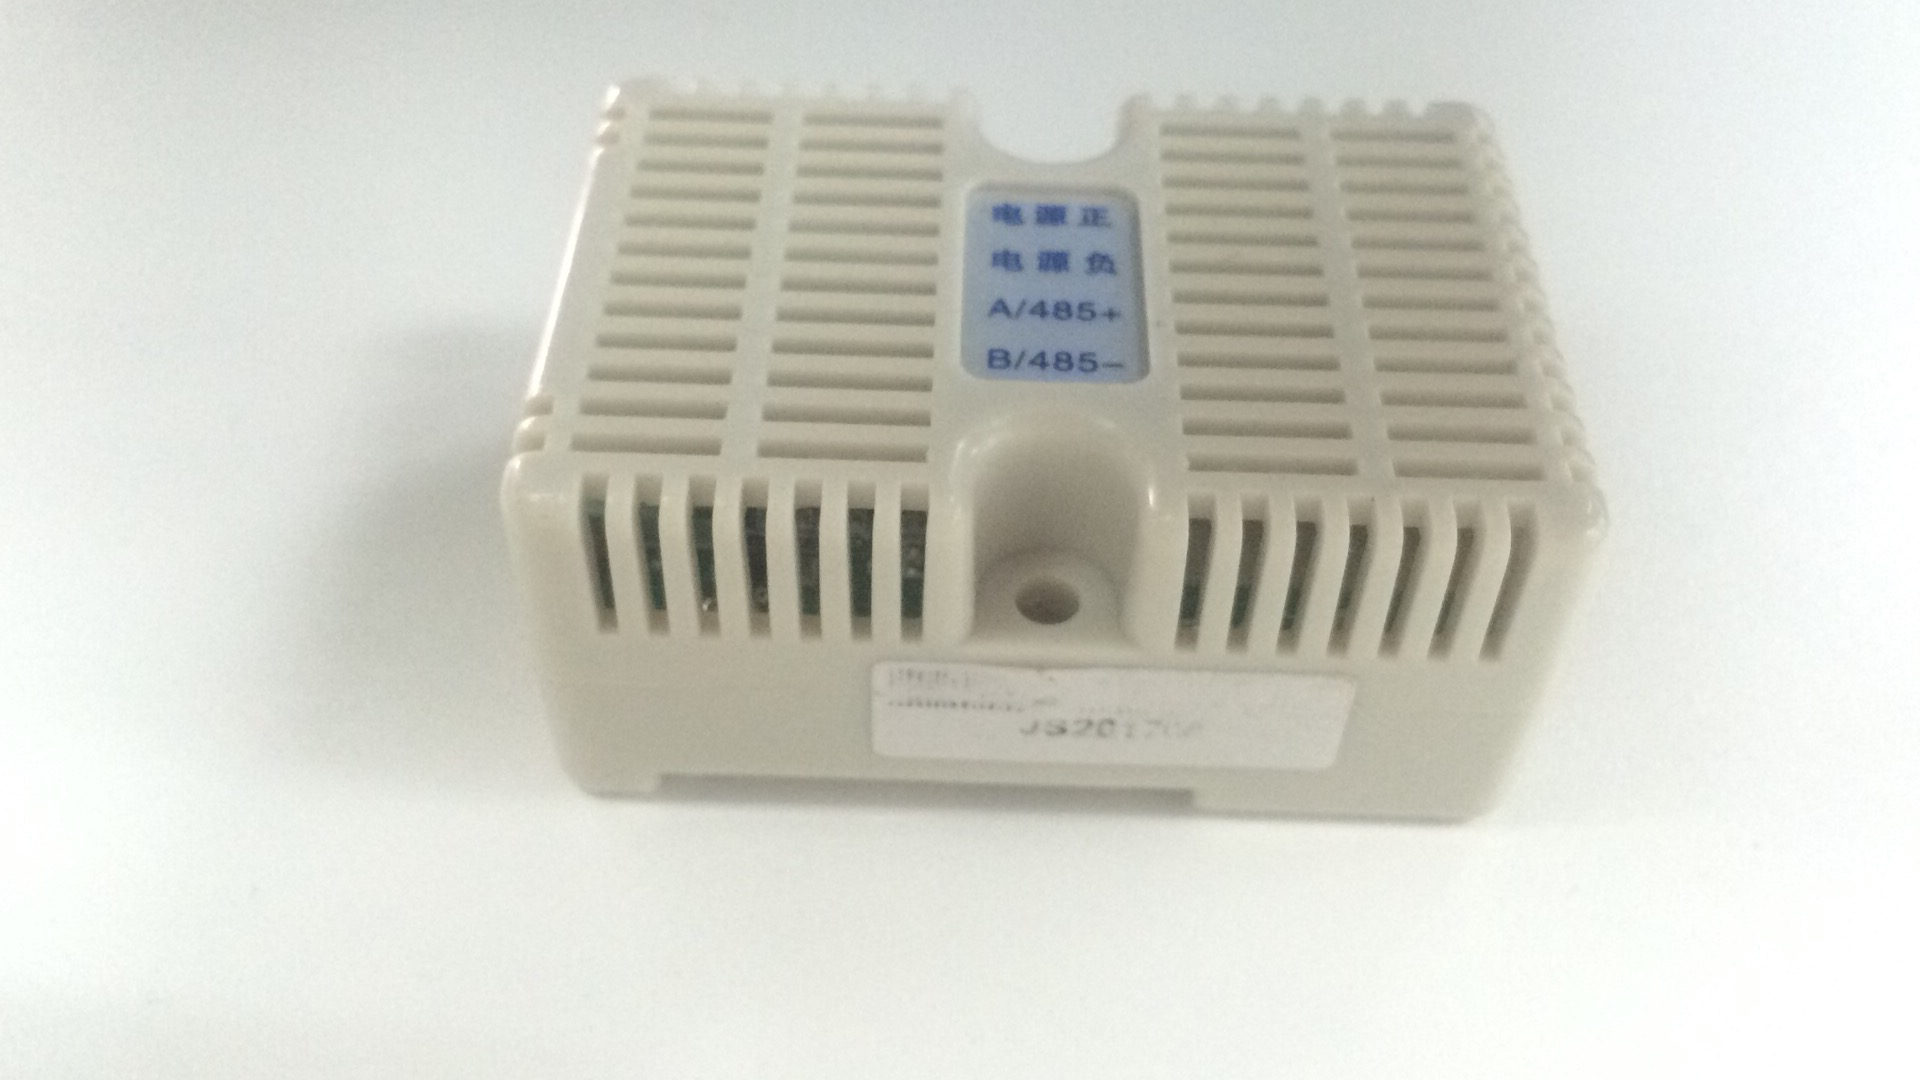temperature: (462, 53, 1677, 870)
